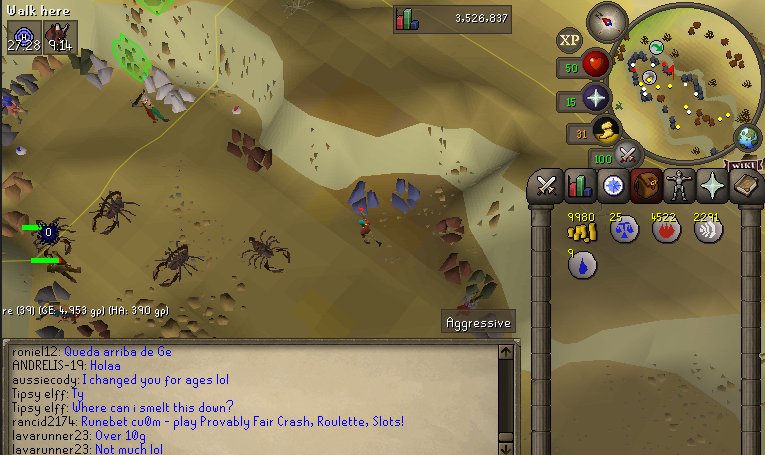depleted: (470, 310, 508, 340), (8, 70, 42, 101), (1, 120, 20, 150)
iron: (439, 251, 473, 284), (76, 316, 115, 341), (438, 215, 465, 246), (226, 129, 256, 156), (247, 148, 274, 173)
